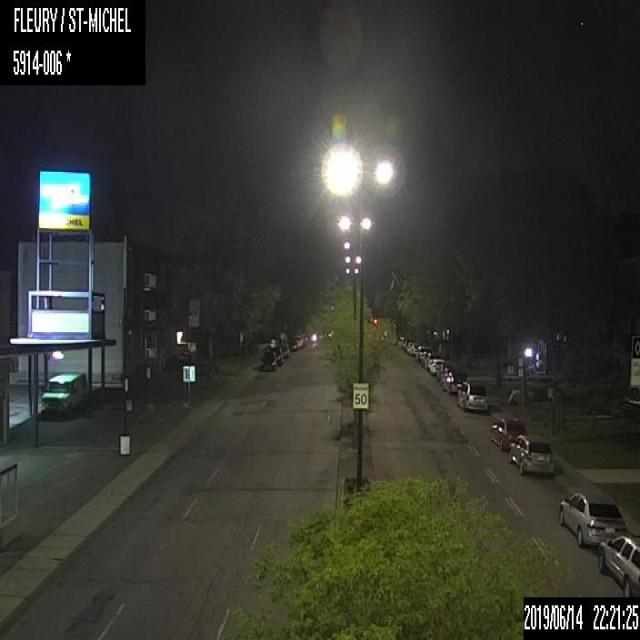vehicle: (558, 487, 621, 548), (596, 530, 639, 593), (40, 370, 86, 417), (509, 430, 555, 477), (488, 413, 526, 454), (457, 377, 486, 411), (441, 368, 466, 394), (258, 347, 276, 372), (268, 342, 283, 366), (413, 343, 430, 362), (427, 356, 443, 375), (287, 338, 299, 352), (293, 334, 304, 348)
